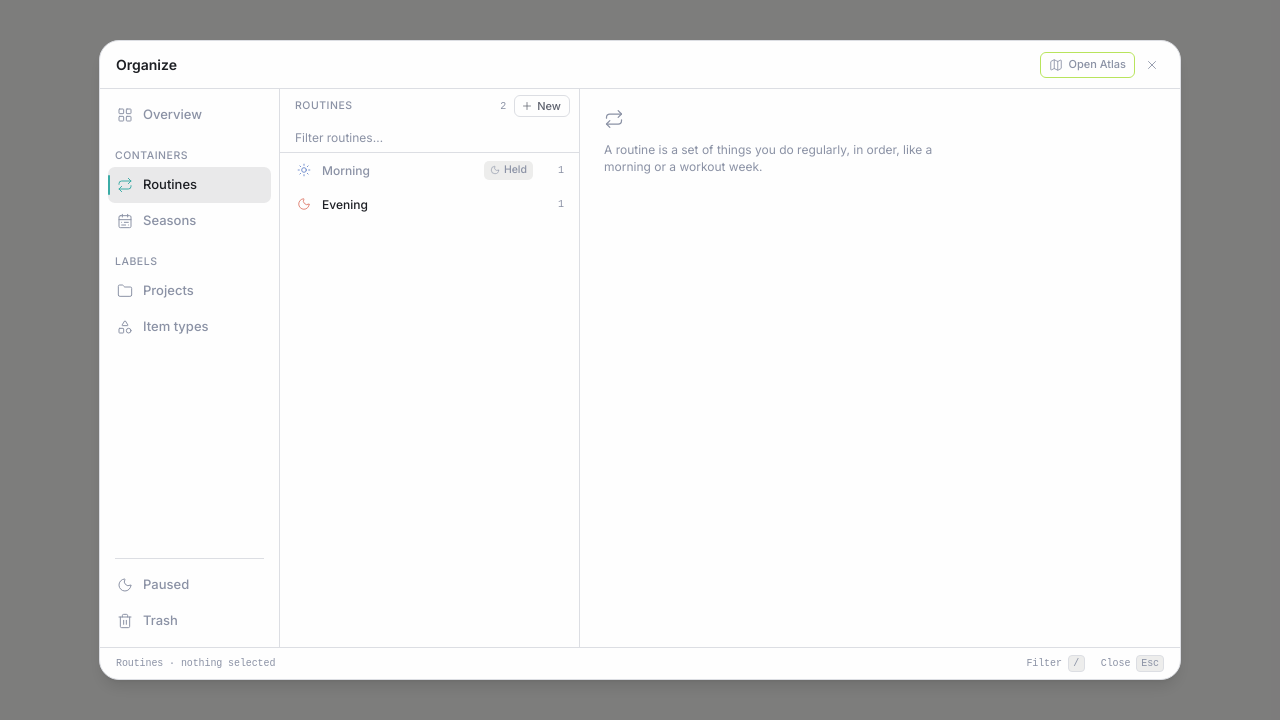
a member the routine is NOT the only path to › says the routine is not carrying them, without claiming they are hidden
Click the button with test id "routine-row". click: x=346, y=170
box: [288,153,571,187]
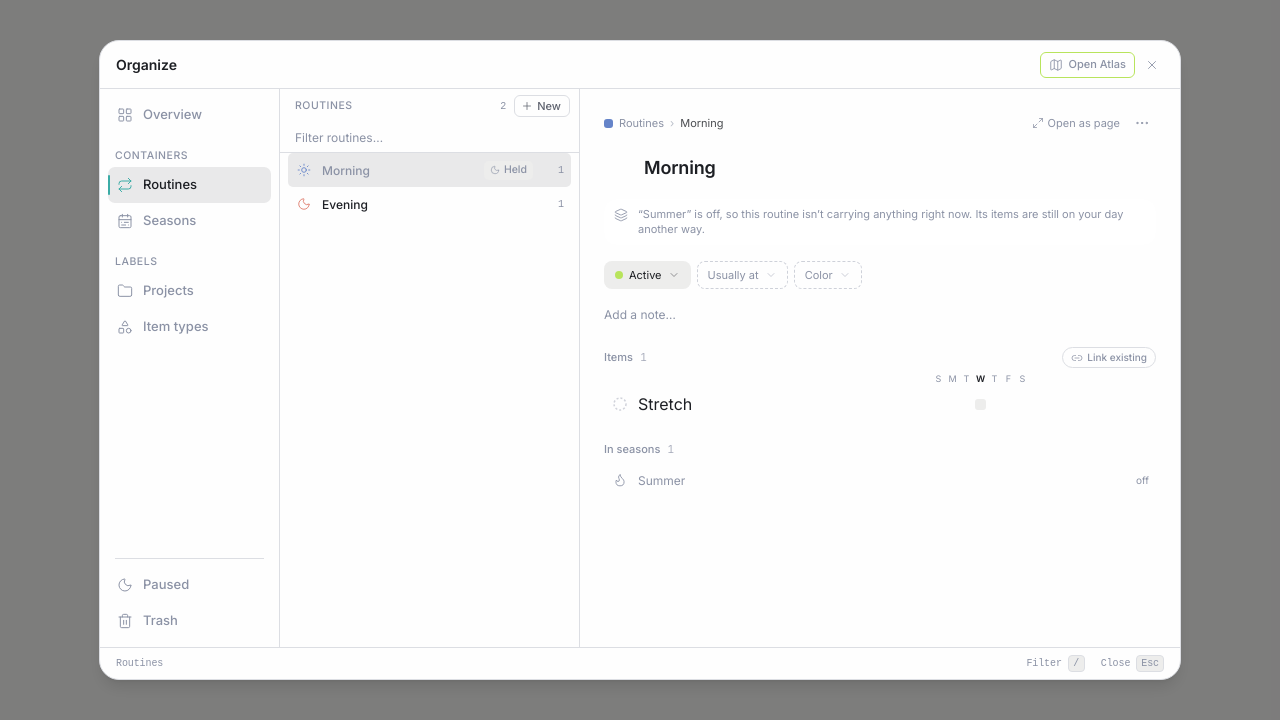
Expected: the element with test id "routine-held-note" does not show "hidden", [604,199,1156,245]
Expected: the element with test id "routine-held-note" shows "“Summer” is off", [638,207,972,221]
Expected: the element with test id "routine-held-note" shows "still on your day", [638,207,1124,236]
